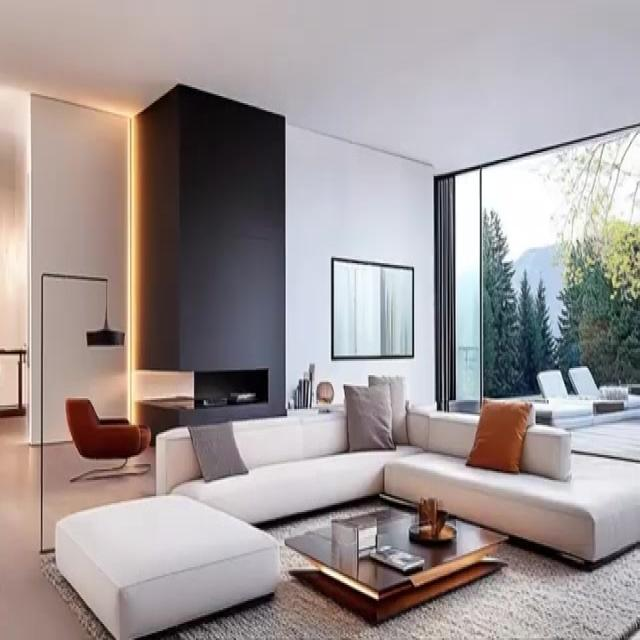obstacle: (156, 407, 640, 565), (284, 500, 509, 624), (64, 396, 151, 482)
